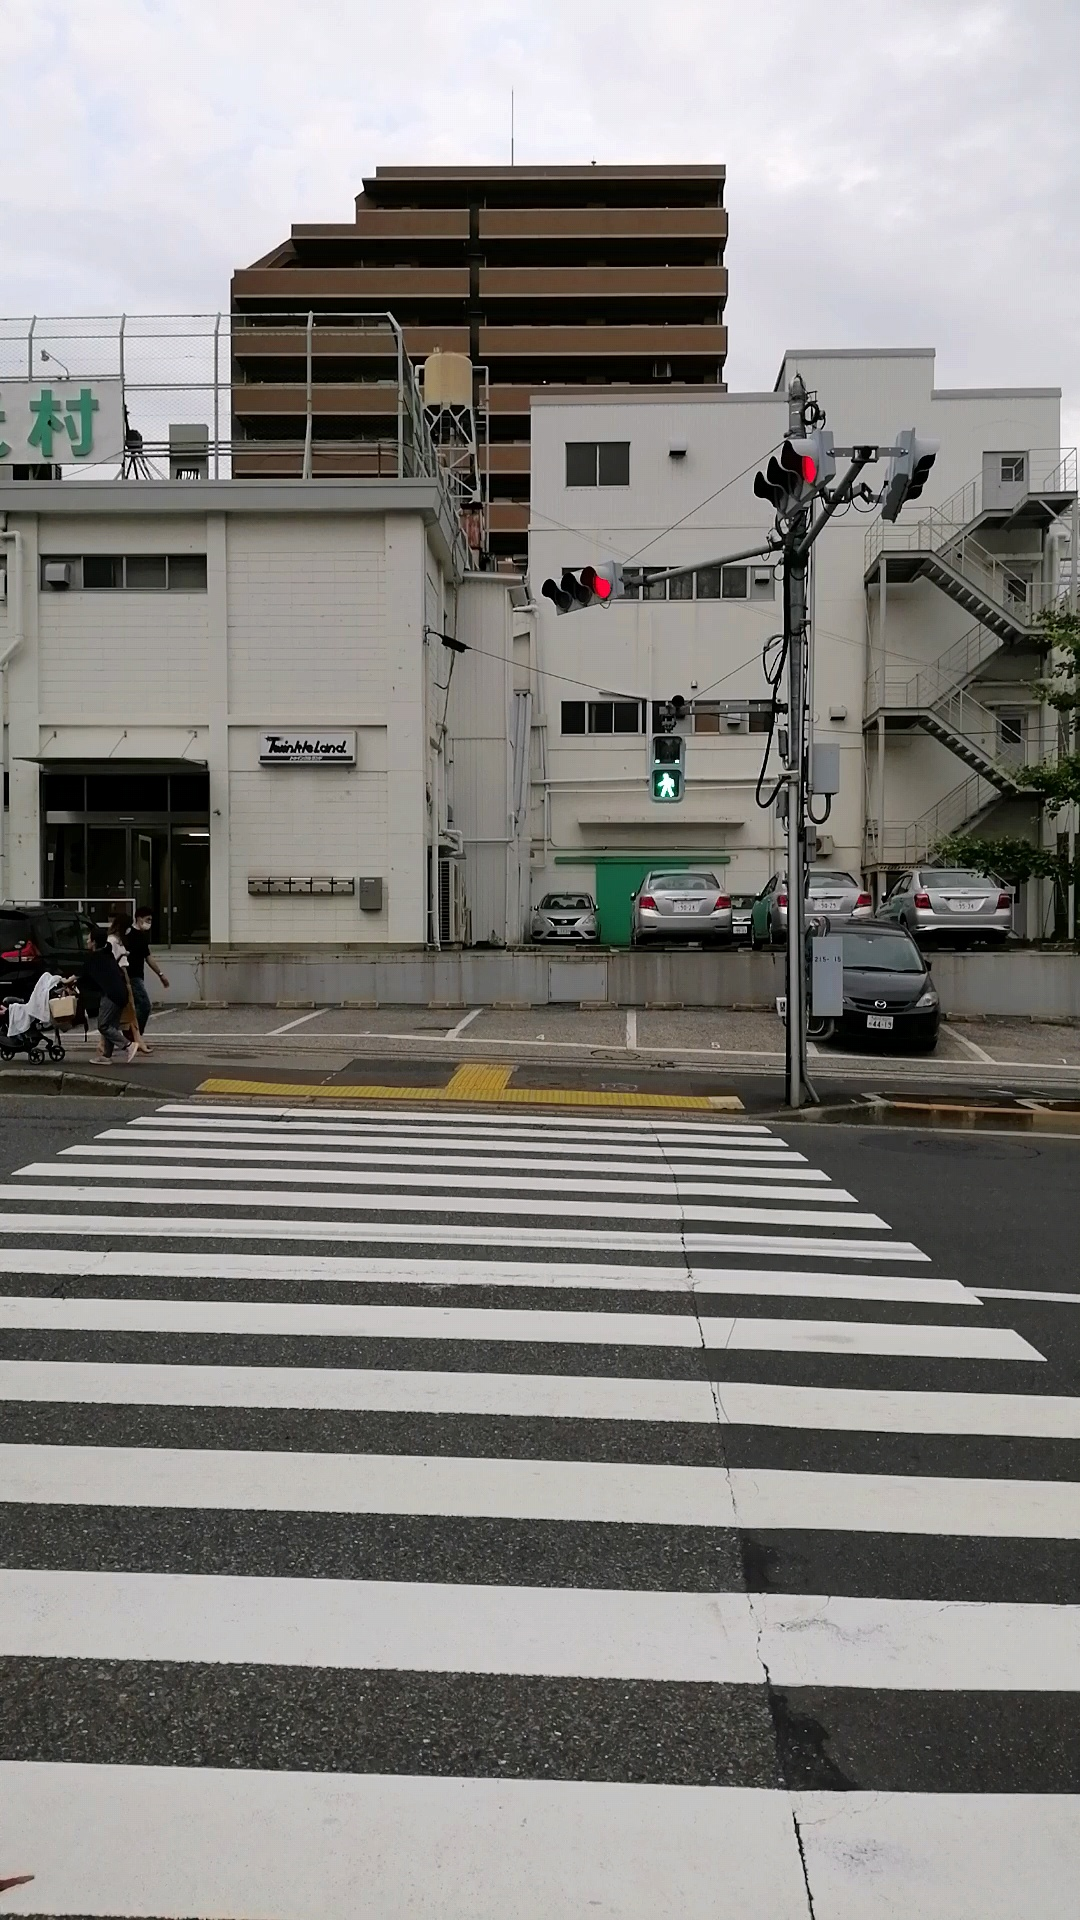green: (649, 733, 684, 802)
